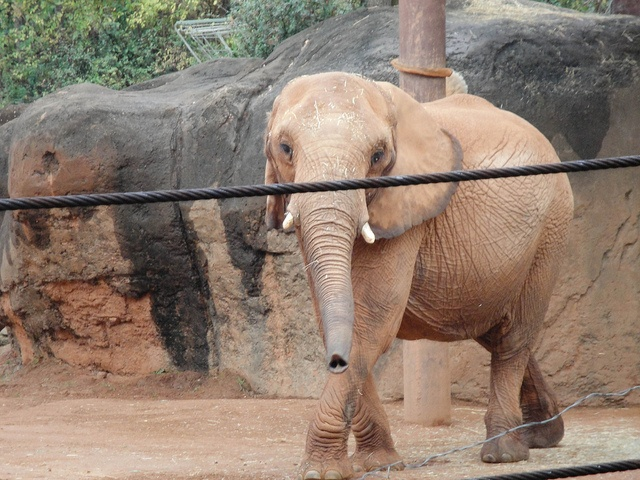elephant: (261, 70, 575, 479)
